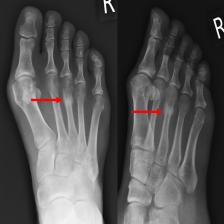hairline-fracture: (5, 4, 114, 224), (119, 7, 216, 224)
